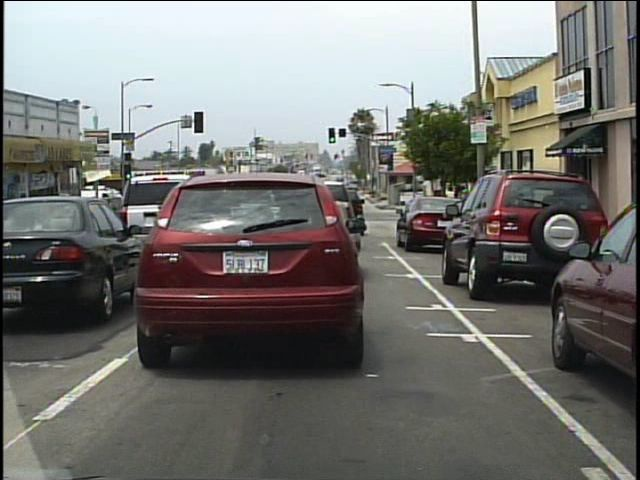person: (438, 190, 451, 226), (431, 192, 442, 227)
